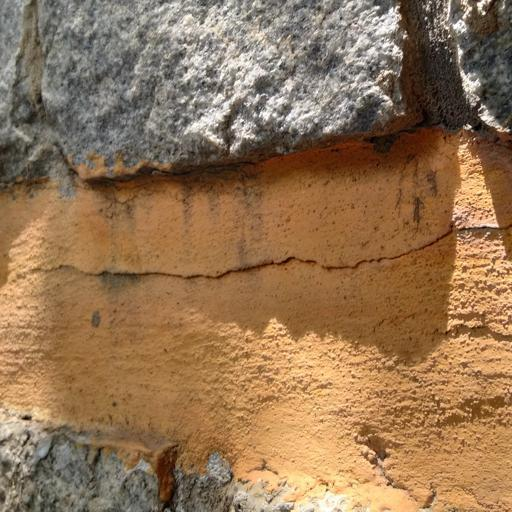minor_crack: (0, 199, 512, 303)
